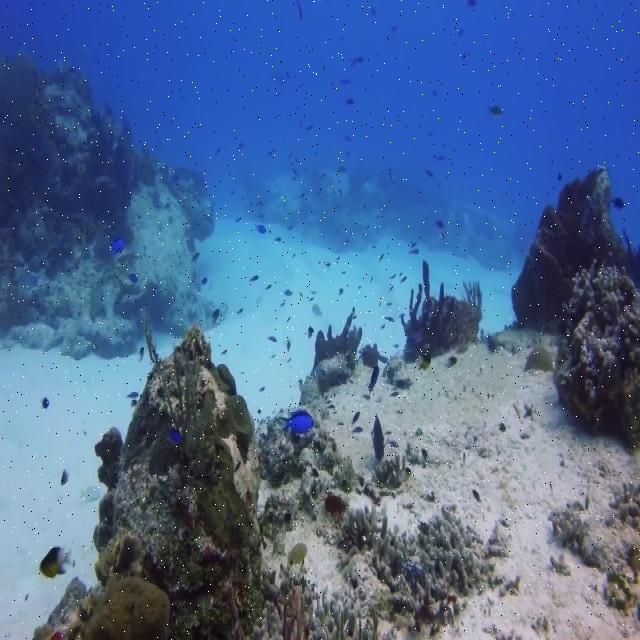reefs: (33, 319, 263, 638), (550, 259, 637, 450)
